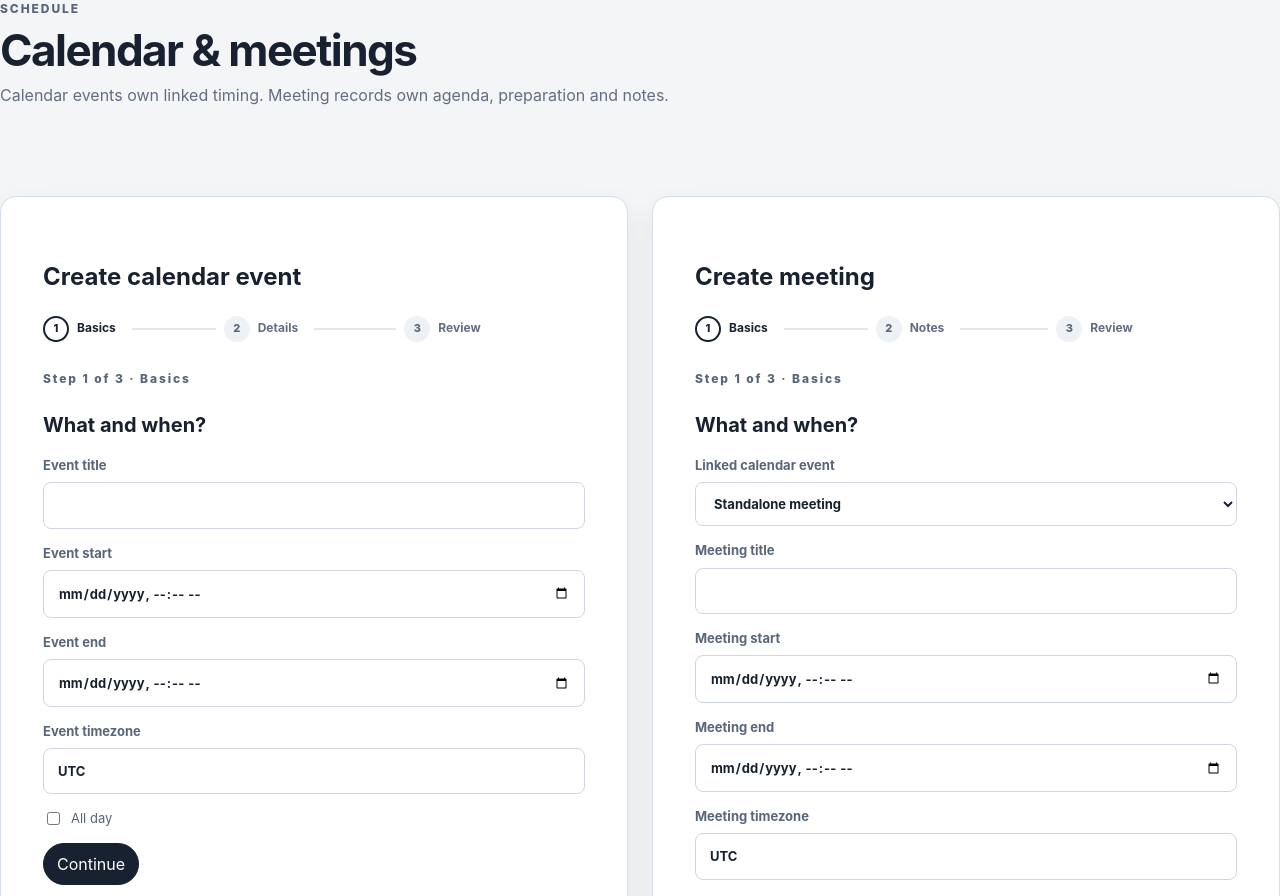
Test: ScheduleWorkspace › on a blank Event end (start filled), targets the end field specifically -- not start, not timezone
Type "Board review" into the field labelled "Event title" at [314, 505], box [43,482,585,528]
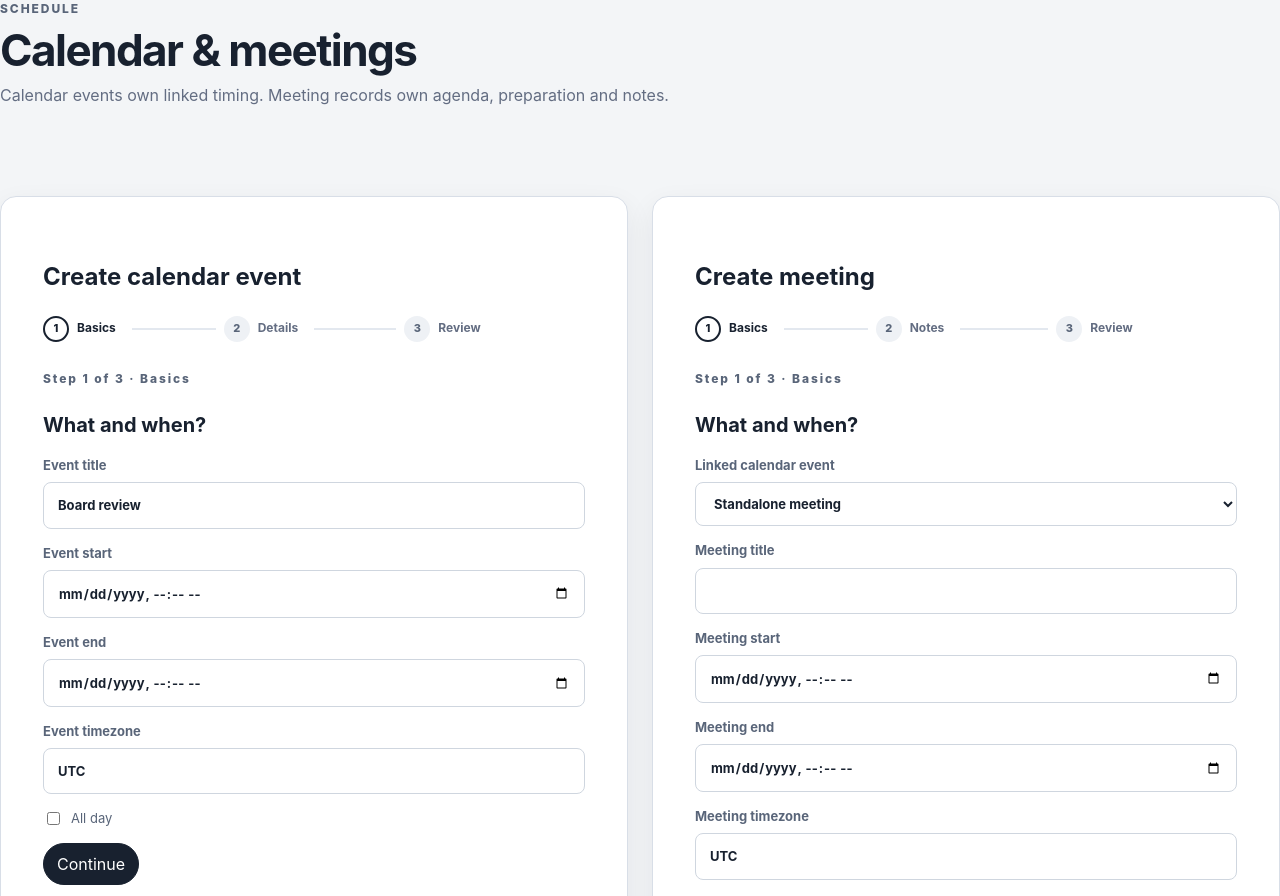
Type "2026-07-20T10:00" into the field labelled "Event start" at [314, 594], box [43,570,585,618]
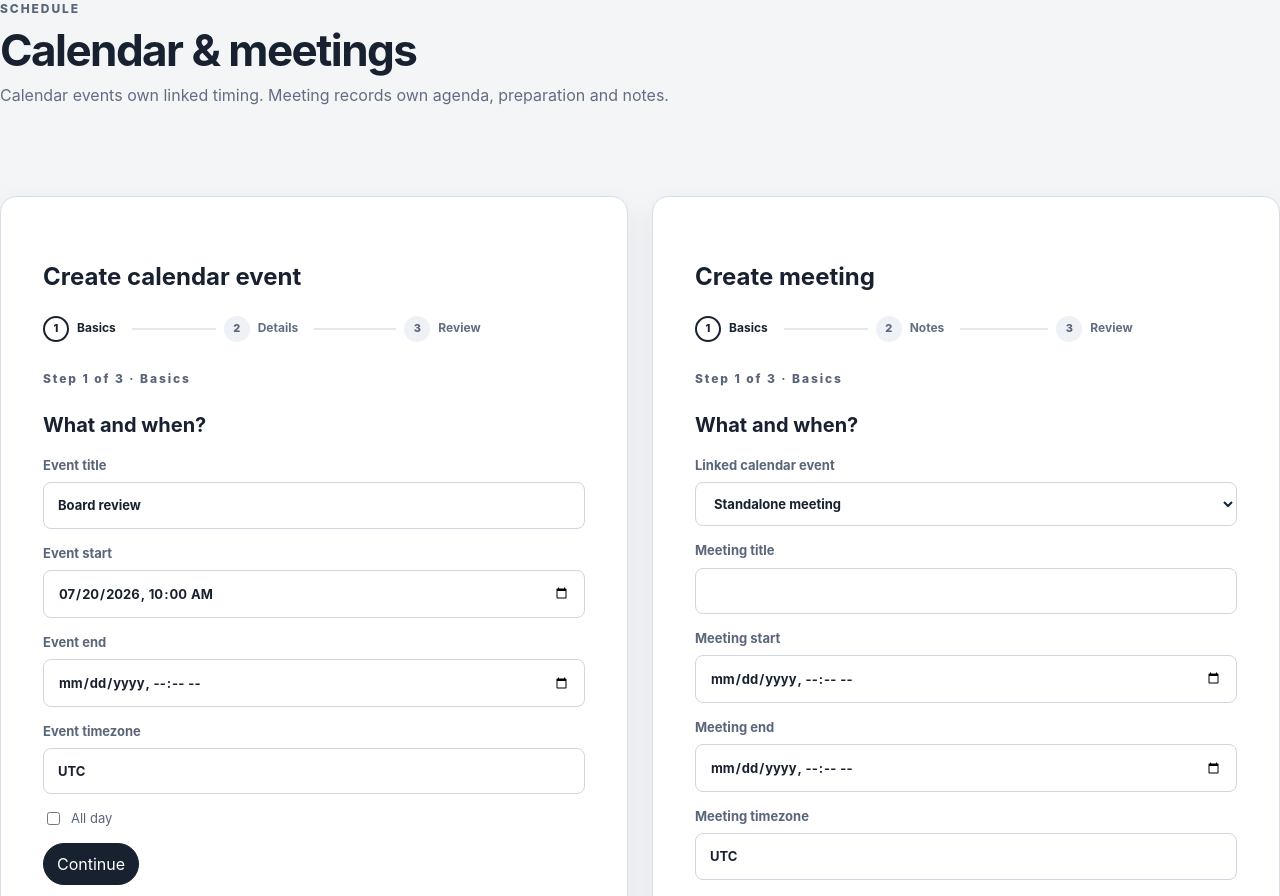
Click the button "Continue" at [91, 864], box [43,842,139,885]
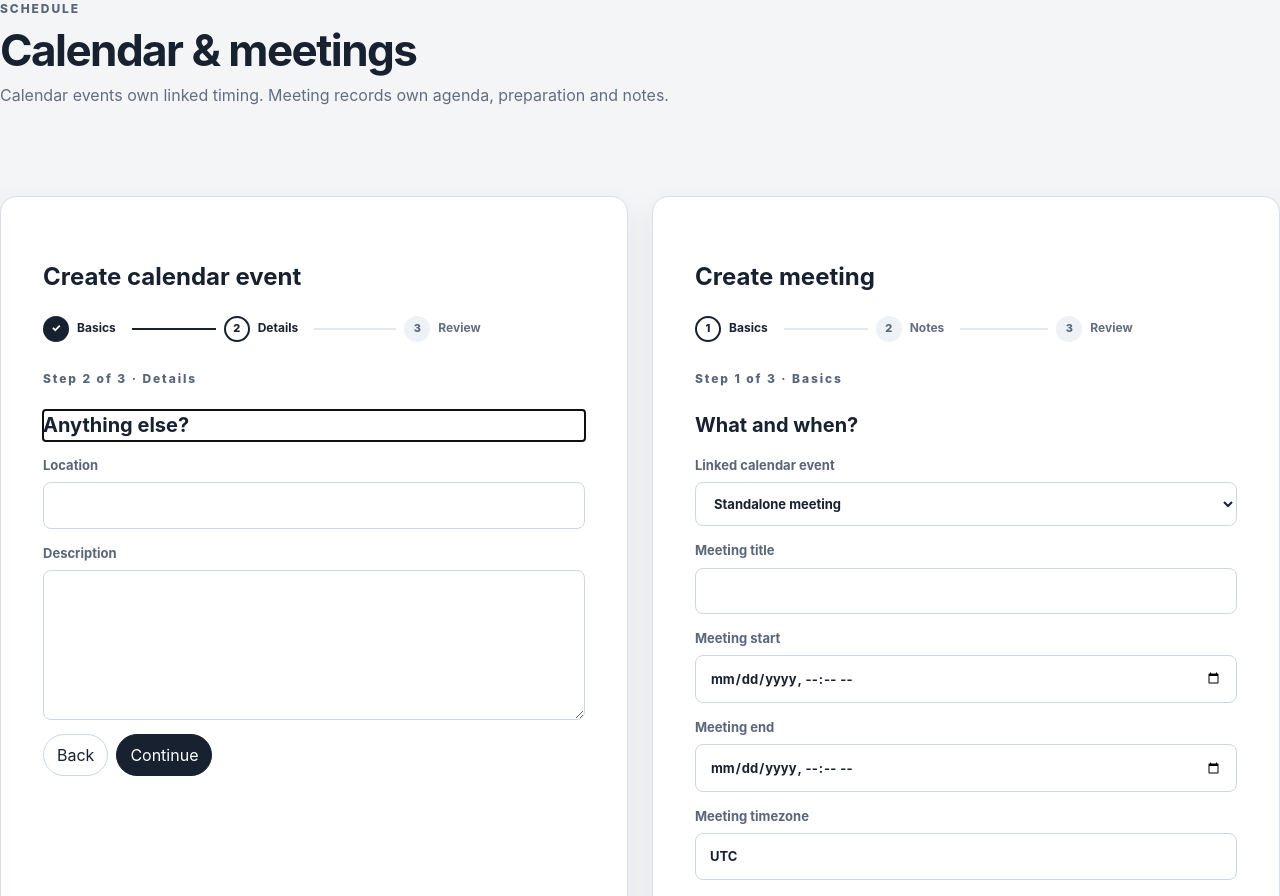
Click the button "Continue" at [164, 755], box [116,734,212,776]
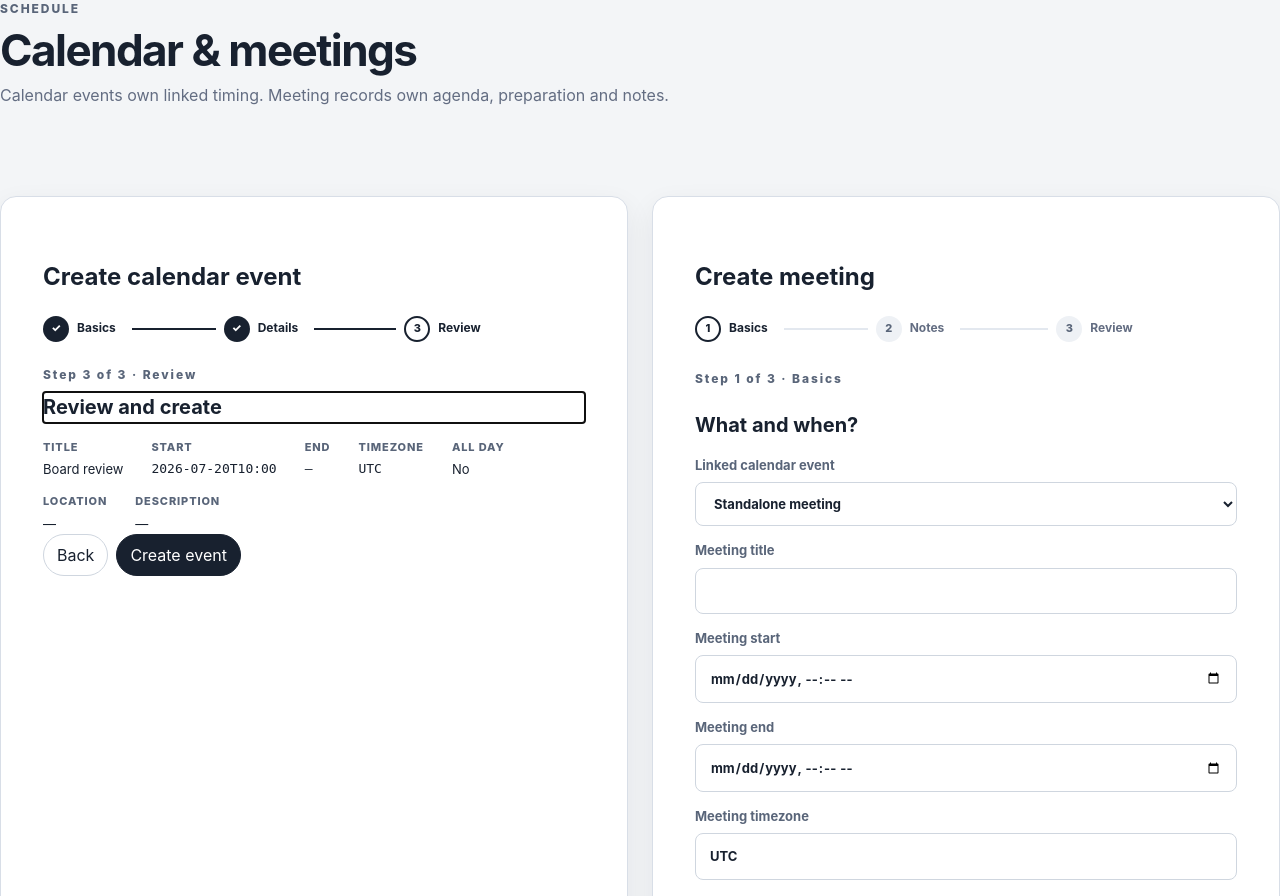
Click the button "Create event" at [179, 555], box [116,534,241,576]
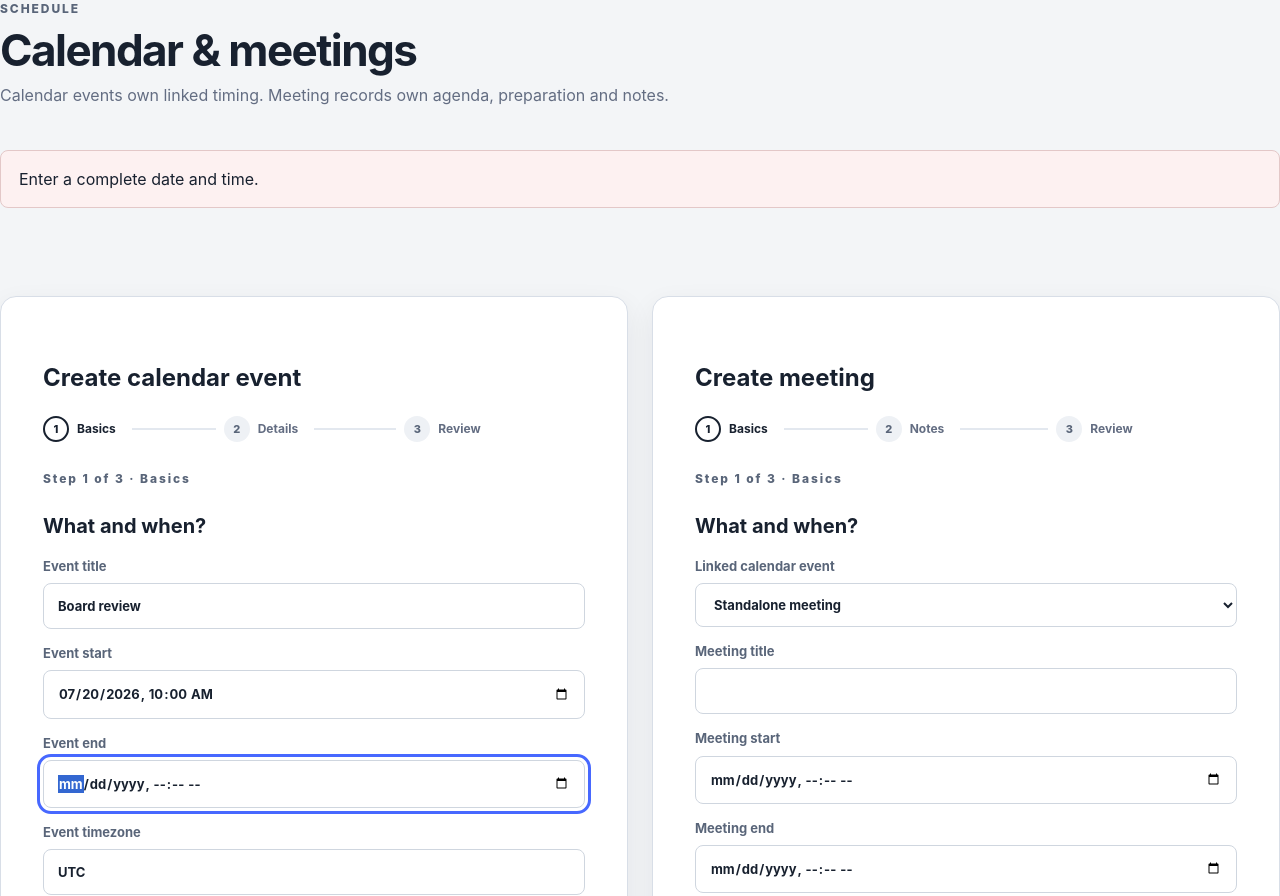
Check: the message "Enter a complete date and time." is shown, box [0,150,1279,208]
